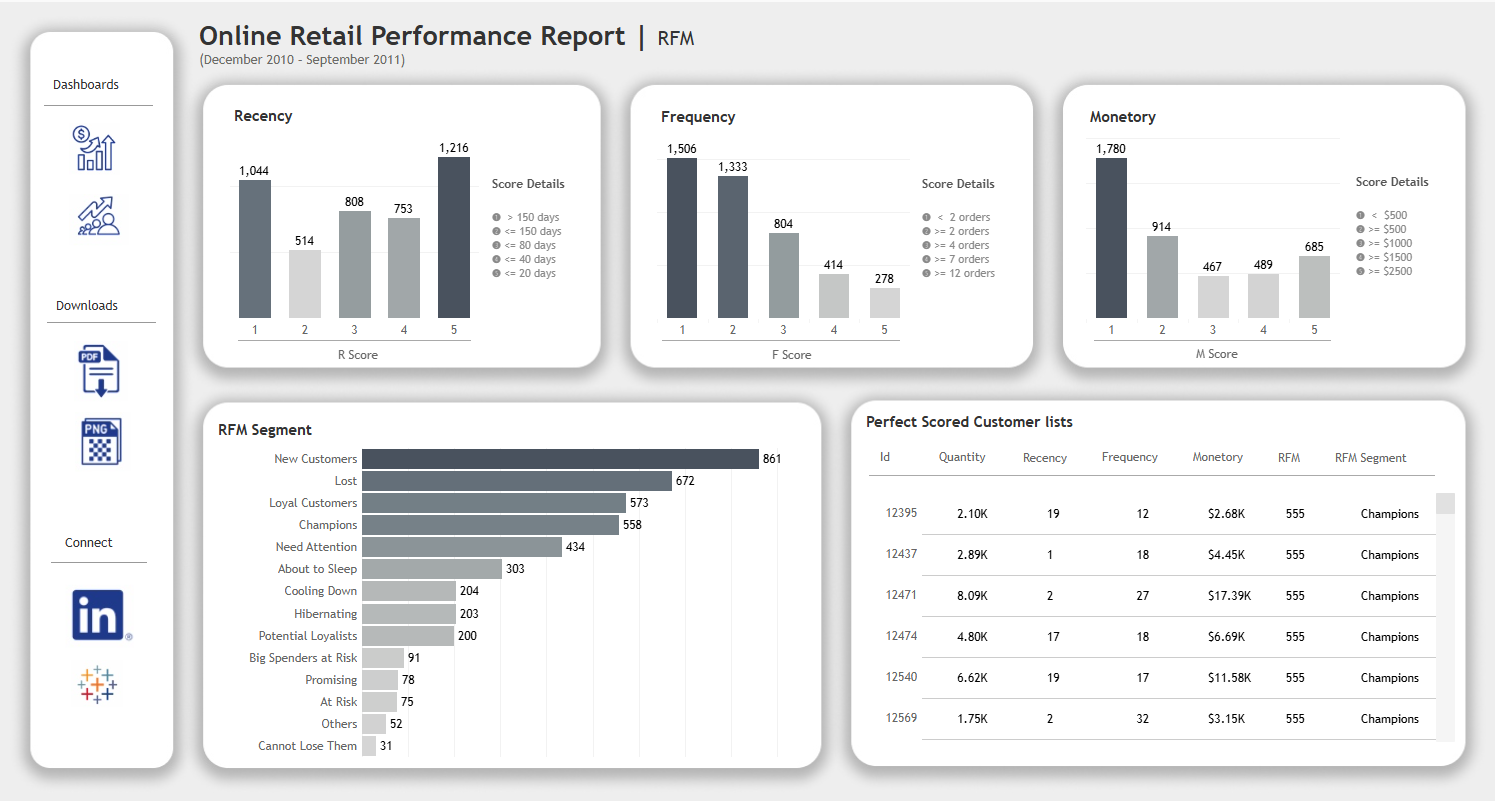

The dashboard page shown, as its layout file describes it:
{"tool":"tableau","page":{"name":"RFM","canvas":[1000,1000],"units":"permille","ordinal":1},"visuals":[{"type":"image","param":"Image/Frame 1 (3).png","box":[0,0,1000,1000]},{"type":"text","box":[134,11.2,602,83.8]},{"type":"text","box":[36.7,85,68.7,37.5]},{"type":"worksheet","title":"R_Score","mark":"Automatic","rows":["customer_id"],"cols":["r_score"],"box":[154.7,122.5,166,297.5]},{"type":"worksheet","title":"F_Score","mark":"Automatic","rows":["customer_id"],"cols":["f_score"],"box":[439.3,123.8,168.7,296.2]},{"type":"worksheet","title":"M_Score","mark":"Automatic","rows":["customer_id"],"cols":["m_score"],"box":[725.3,123.8,169.3,296.2]},{"type":"blank","box":[30.7,128.8,72.7,1.2]},{"type":"dashboard-object","box":[30.7,151.2,66.7,65]},{"type":"text","box":[905.3,206.2,66.7,148.8]},{"type":"text","box":[329.3,208.8,66.7,148.8]},{"type":"text","box":[616,208.8,68.7,148.8]},{"type":"dashboard-object","box":[34.7,240,64.7,65]},{"type":"text","box":[38.7,361.2,66.7,37.5]},{"type":"blank","box":[32.7,400,72.7,1.2]},{"type":"blank","box":[158,402.5,159.3,41.2]},{"type":"blank","box":[440.7,402.5,162.7,41.2]},{"type":"blank","box":[728.7,402.5,162,41.2]},{"type":"text","box":[779.3,421.2,66.7,37.5]},{"type":"text","box":[206.7,422.5,66.7,37.5]},{"type":"text","box":[496,422.5,66.7,37.5]},{"type":"dashboard-object","box":[35.3,423.8,66.7,76.2]},{"type":"text","box":[578.7,505,170.7,37.5]},{"type":"worksheet","title":"RFM Segment","mark":"Automatic","rows":["rfm_segment"],"cols":["customer_id"],"box":[145.3,508.8,395.3,430]},{"type":"dashboard-object","box":[39.3,512.5,60.7,75]},{"type":"text","box":[588,550,22.7,37.5]},{"type":"text","box":[627.3,550,48.7,37.5]},{"type":"text","box":[736,550,54.7,37.5]},{"type":"text","box":[796.7,550,49.3,37.5]},{"type":"text","box":[683.3,551.2,43.3,37.5]},{"type":"text","box":[853.3,551.2,27.3,37.5]},{"type":"text","box":[891.3,551.2,70,37.5]},{"type":"blank","box":[580.7,591.2,377.3,1.2]},{"type":"worksheet","title":"Perfect Scored Customer lists","mark":"Circle","rows":["customer_id"],"cols":["Calculation_0900549563179023","Calculation_0900549563179023","Calculation_0900549563179023","Calculation_0900549563179023","Calculation_0900549563179023","Calculation_0900549563179023"],"box":[581.3,613.8,390,311.2]},{"type":"text","box":[44.7,657.5,66.7,37.5]},{"type":"blank","box":[35.3,700,64,1.2]},{"type":"image","param":"Image/Screenshot 2026-03-17 221749.png","box":[44.7,727.5,46,81.2]},{"type":"image","param":"Image/Screenshot 2026-03-17 221802.png","box":[44.7,822.5,42.7,60]}]}

Visuals, with their boxes on the dashboard's canvas, which has no fixed pixel size, in thousandths of its width and height (x1, y1, x2, y2). These are canvas units, not pixel positions in the 1495x801 screenshot, which may show the page scaled, cropped or inside an application window:
image: 0, 0, 1000, 1000
text: 134, 11, 736, 95
text: 37, 85, 105, 122
"R_Score" worksheet: 155, 122, 321, 420
"F_Score" worksheet: 439, 124, 608, 420
"M_Score" worksheet: 725, 124, 895, 420
blank: 31, 129, 103, 130
dashboard-object: 31, 151, 97, 216
text: 905, 206, 972, 355
text: 329, 209, 396, 358
text: 616, 209, 685, 358
dashboard-object: 35, 240, 99, 305
text: 39, 361, 105, 399
blank: 33, 400, 105, 401
blank: 158, 402, 317, 444
blank: 441, 402, 603, 444
blank: 729, 402, 891, 444
text: 779, 421, 846, 459
text: 207, 422, 273, 460
text: 496, 422, 563, 460
dashboard-object: 35, 424, 102, 500
text: 579, 505, 749, 542
"RFM Segment" worksheet: 145, 509, 541, 939
dashboard-object: 39, 512, 100, 588
text: 588, 550, 611, 588
text: 627, 550, 676, 588
text: 736, 550, 791, 588
text: 797, 550, 846, 588
text: 683, 551, 727, 589
text: 853, 551, 881, 589
text: 891, 551, 961, 589
blank: 581, 591, 958, 592
"Perfect Scored Customer lists" worksheet (Circle marks): 581, 614, 971, 925
text: 45, 658, 111, 695
blank: 35, 700, 99, 701
image: 45, 728, 91, 809
image: 45, 822, 87, 882
